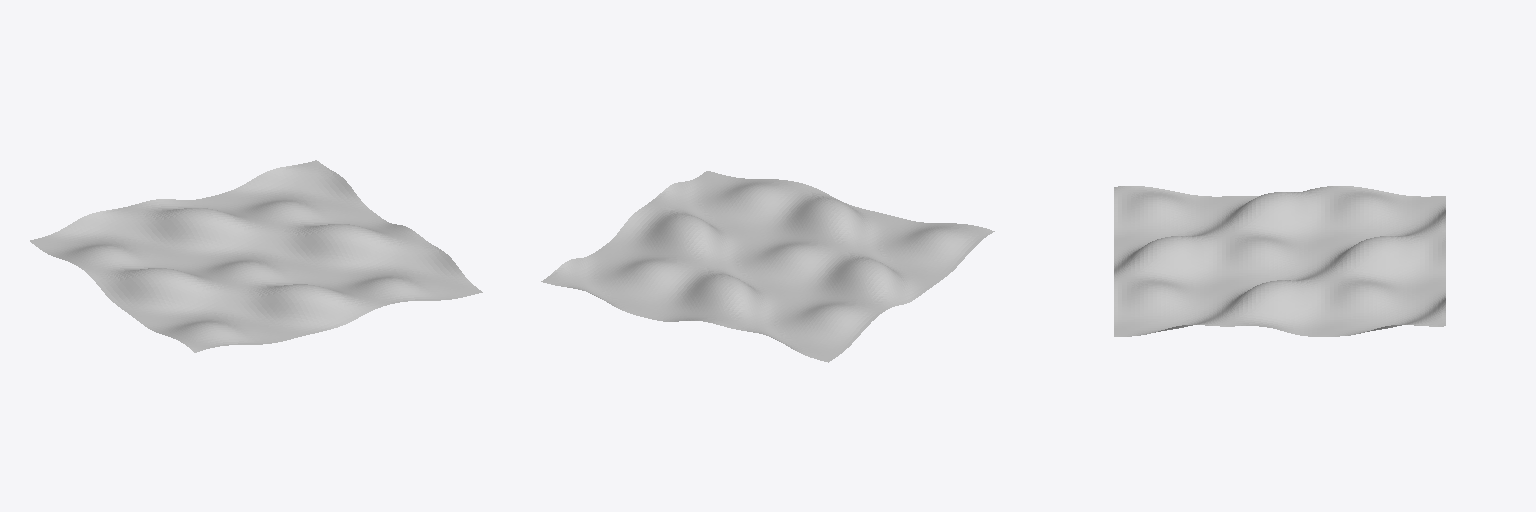
File: Ground1.obj
3 views of the same model, side by side, from view 1: azimuth 30°, elevation 25°; view 2: azimuth 150°, elevation 25°; view 3: azimuth 270°, elevation 25° (orthographic).
Visible parts, largest first — view 1: Plan; view 2: Plan; view 3: Plan.
Part boxes in pixels (x1,y1,x2,y2): Plan: (30,160,482,352); Plan: (541,171,994,362); Plan: (1114,186,1445,336).
Bounding box in the file's own units: 31.67 × 2.28 × 31.67.